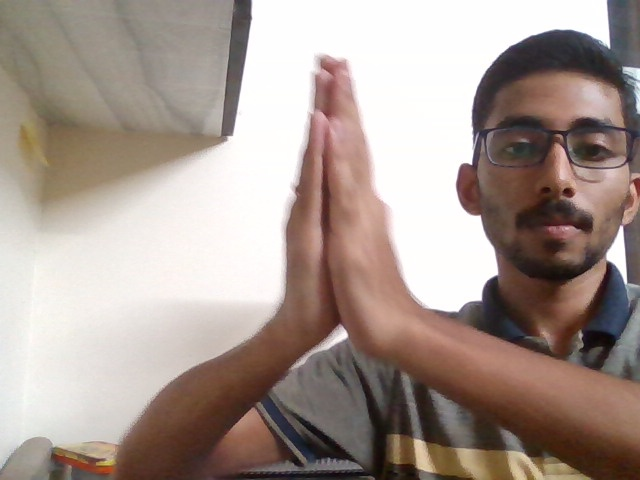Thank You: (248, 42, 442, 382)
